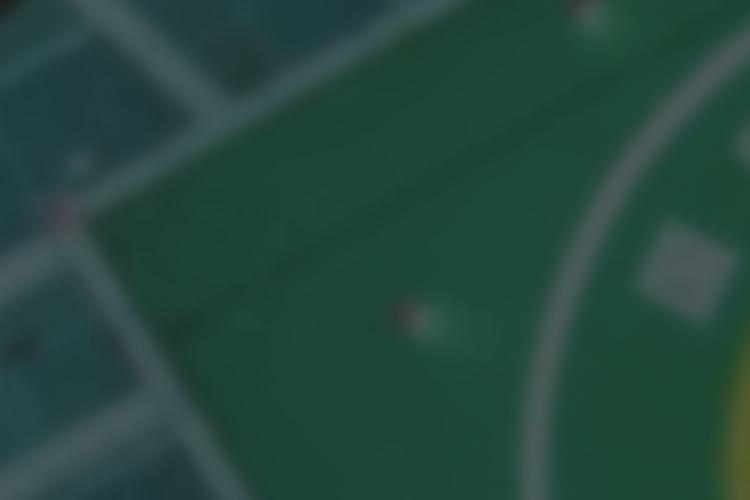Apron: (710, 329, 750, 500)
